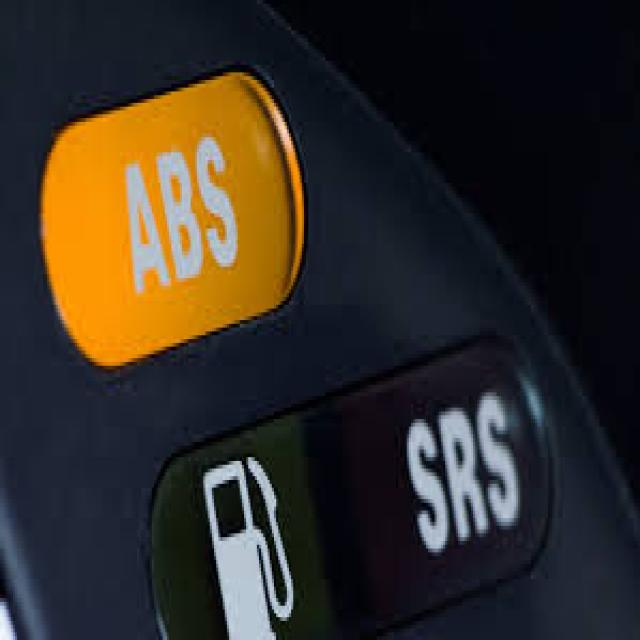kontrolka: (36, 60, 310, 367)
